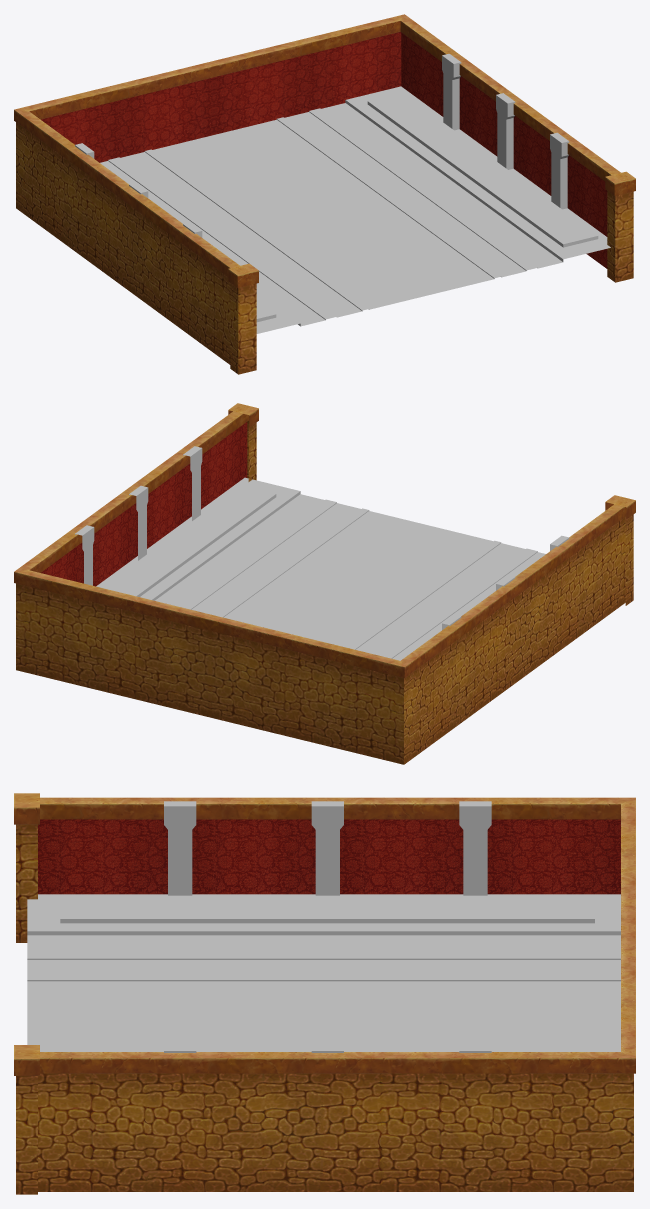
The model's file is Stage_01_02_DaDian.FBX.
3 renders of one model, top to bottom at view 1: azimuth 30°, elevation 25°; view 2: azimuth 150°, elevation 25°; view 3: azimuth 270°, elevation 25°, orthographic. The views are drawn at different scales.
Visible parts, largest first — view 1: Stage_01_02_DaDian; view 2: Stage_01_02_DaDian; view 3: Stage_01_02_DaDian.
Boxes of the visible parts, x1,y1,x2,y2 form: Stage_01_02_DaDian: (14,14,635,374); Stage_01_02_DaDian: (14,403,635,764); Stage_01_02_DaDian: (14,793,635,1194).
Bounding box in the file's own units: 4186 × 1004 × 4142.
